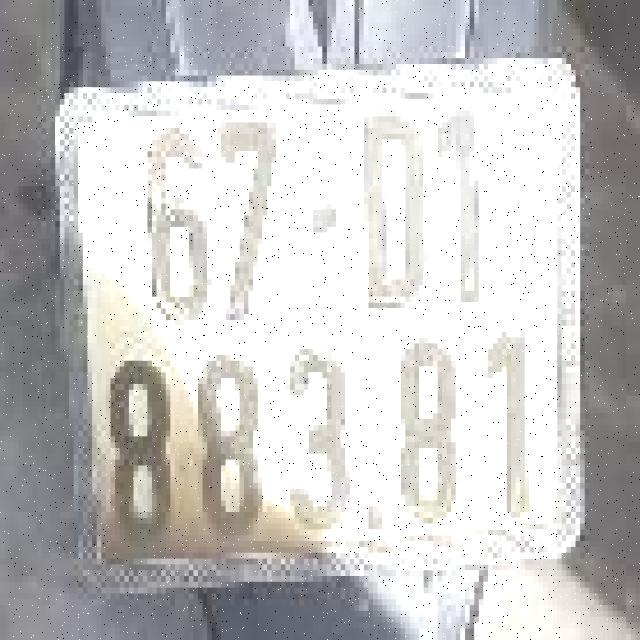1: (433, 93, 488, 332), (481, 317, 537, 521)
3: (278, 335, 357, 544)
6: (127, 128, 214, 320)
7: (214, 108, 288, 328)
8: (99, 340, 182, 544), (387, 329, 465, 538), (193, 340, 267, 550)
D: (359, 99, 428, 314)
